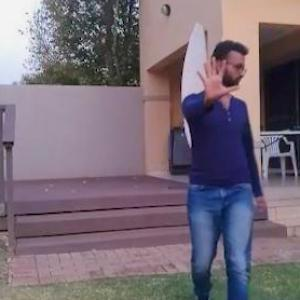follow_hand: (192, 52, 241, 109)
